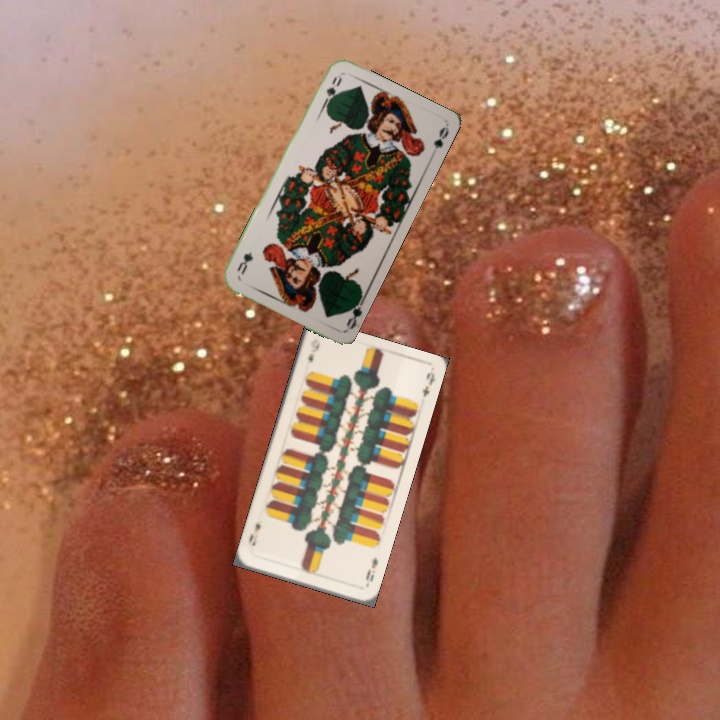E9: (362, 553, 381, 589), (304, 334, 323, 365)
GO: (341, 293, 367, 332), (319, 72, 344, 110)
